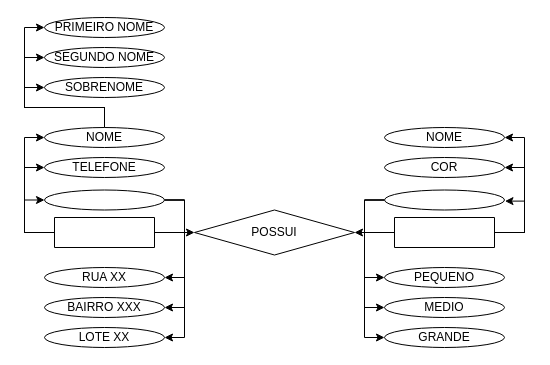
This 550x365 diagram has some shape labels left out. Here are the shapes that lost their labels. From the top down, the box of each, then its label:
(44, 189, 164, 210): ENDEREÇO
(384, 189, 504, 210): TAMANHO
(54, 216, 154, 248): CLIENTE
(394, 216, 494, 248): PET
